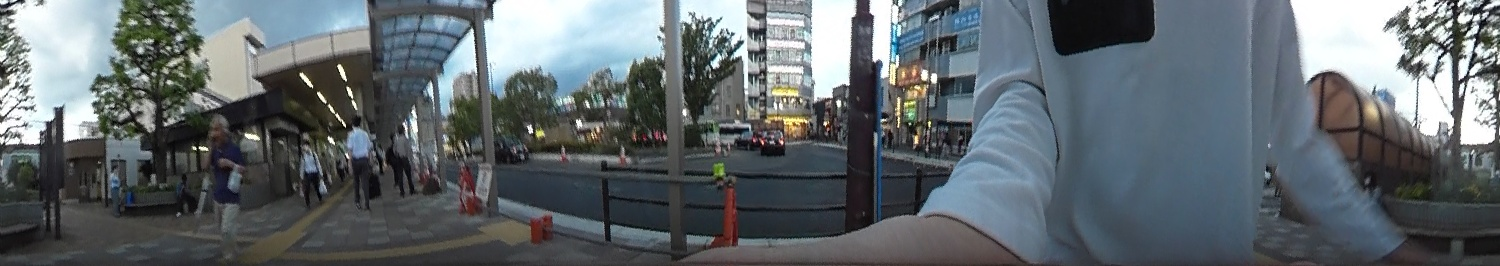difficult_person: (1362, 165, 1386, 213), (106, 163, 125, 220), (173, 173, 197, 217), (333, 146, 348, 179), (316, 148, 331, 179)
person: (184, 112, 255, 266), (342, 105, 382, 212), (291, 138, 327, 209), (392, 121, 416, 197)
